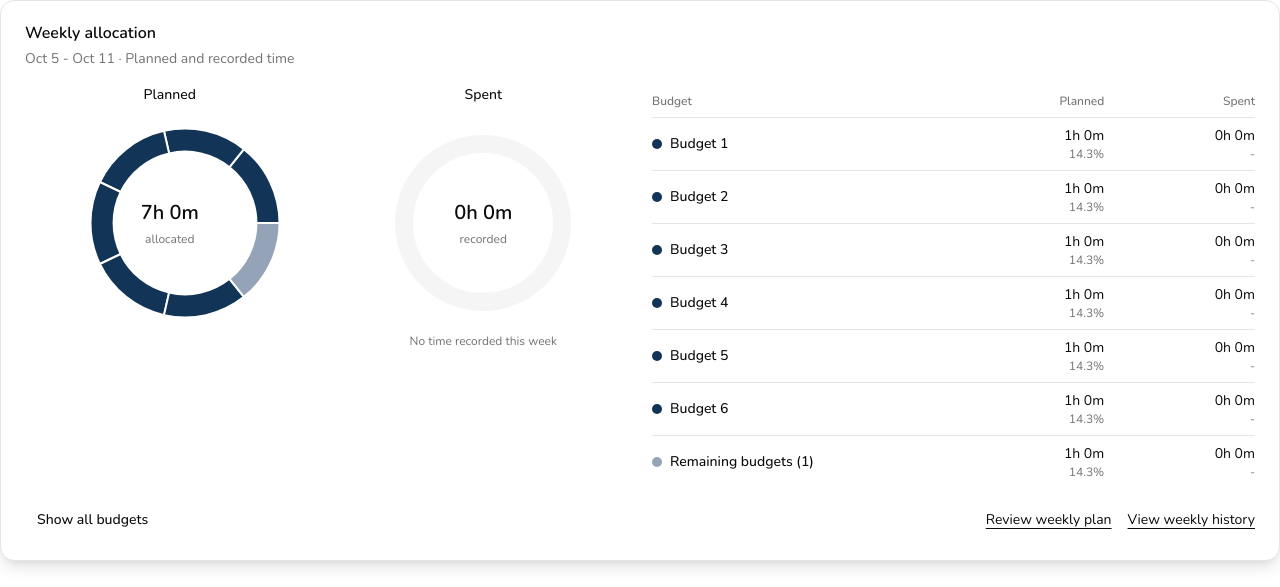
Scenario: Weekly allocation card › expands both comparisons and gives budget links the same current-week period
Expected: the text "7h 0m" is shown, [141, 199, 199, 227]
Expected: the link "Budget 7" is not shown
Click the button "Show all budgets": click(93, 520) [25, 504, 160, 536]
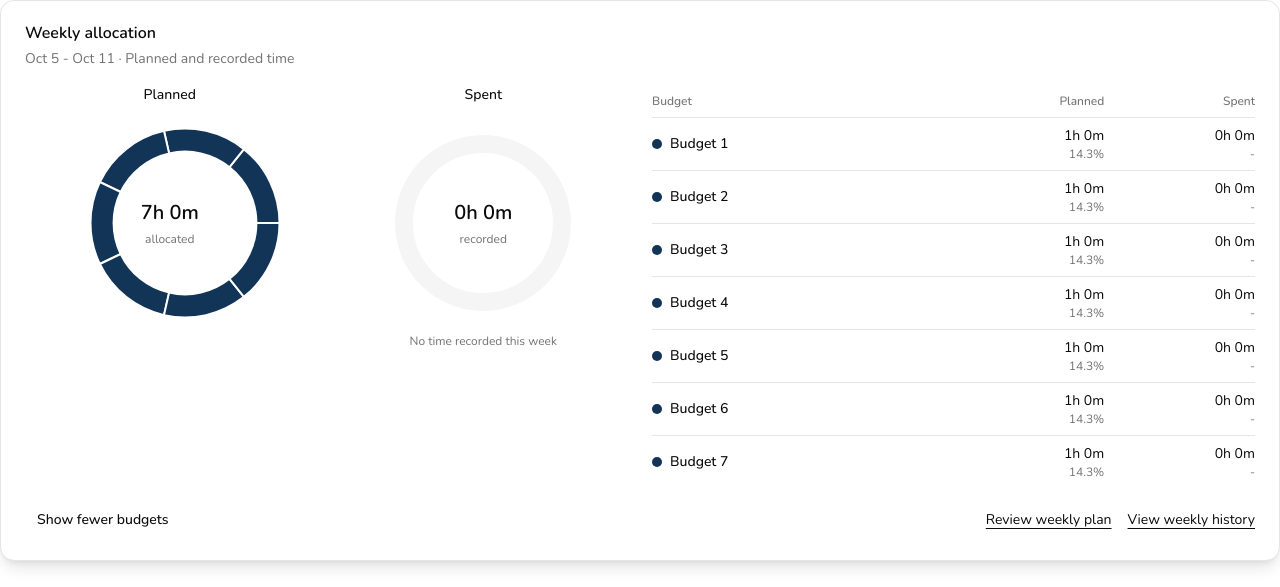
Click the button "Show fewer budgets": click(103, 520) [25, 504, 181, 536]
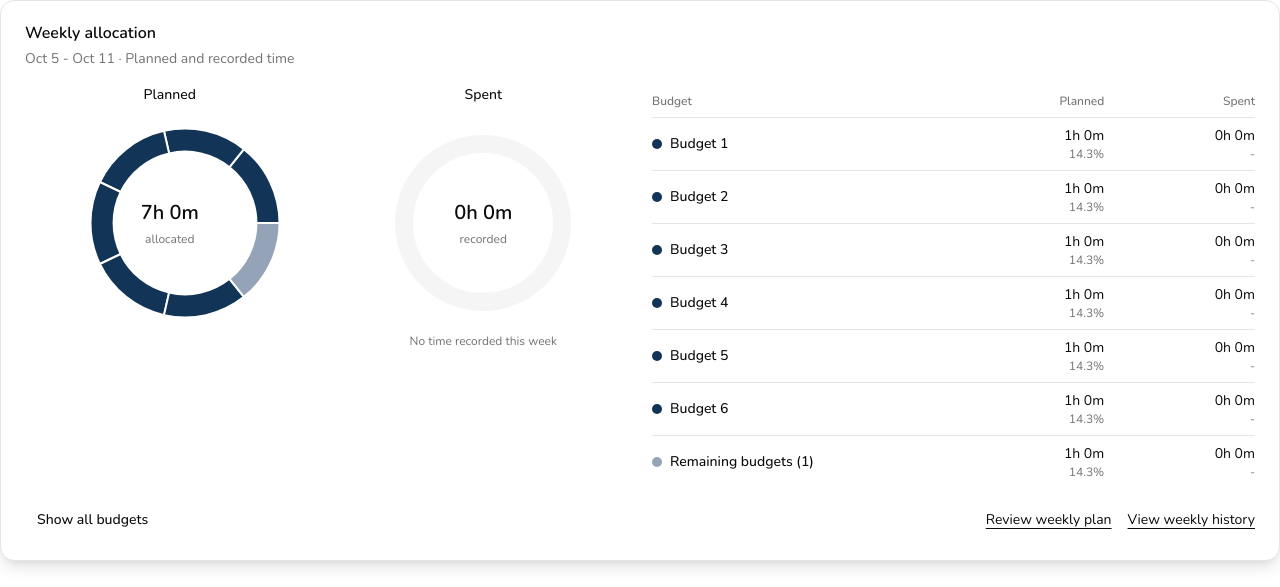
Now the link "Budget 7" is gone
